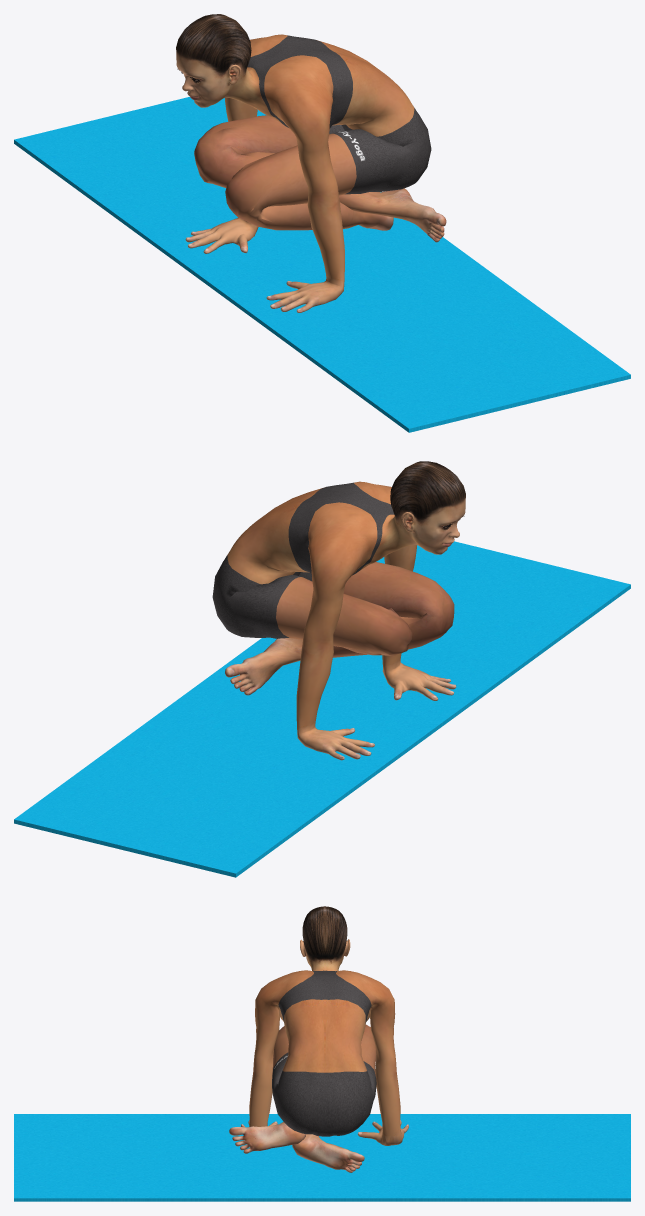
File: lolasana.glb
3 renders of one model, top to bottom at view 1: azimuth 30°, elevation 25°; view 2: azimuth 150°, elevation 25°; view 3: azimuth 270°, elevation 25°, orthographic. The views are drawn at different scales.
Parts seen in each view (by area): view 1: mat_001-material, FemaleSkin-material; view 2: mat_001-material, FemaleSkin-material; view 3: mat_001-material, FemaleSkin-material.
Boxes of the visible parts, x1,y1,x2,y2 form: mat_001-material: [14, 97, 630, 432]; FemaleSkin-material: [176, 14, 446, 312]; mat_001-material: [14, 541, 630, 877]; FemaleSkin-material: [212, 461, 465, 760]; mat_001-material: [14, 1114, 630, 1201]; FemaleSkin-material: [229, 906, 408, 1172].
Bounding box in the file's own units: 2.27 × 2.31 × 6.17.
2 materials, 2 textured.
